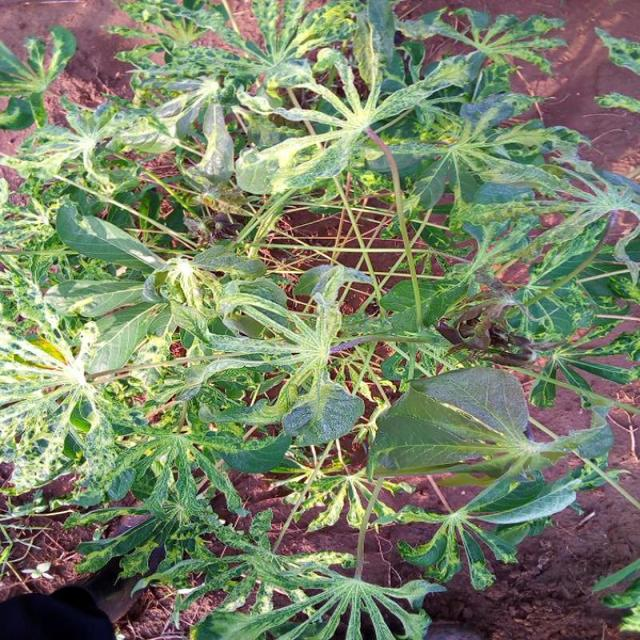cassava leaf: (366, 365, 530, 481)
